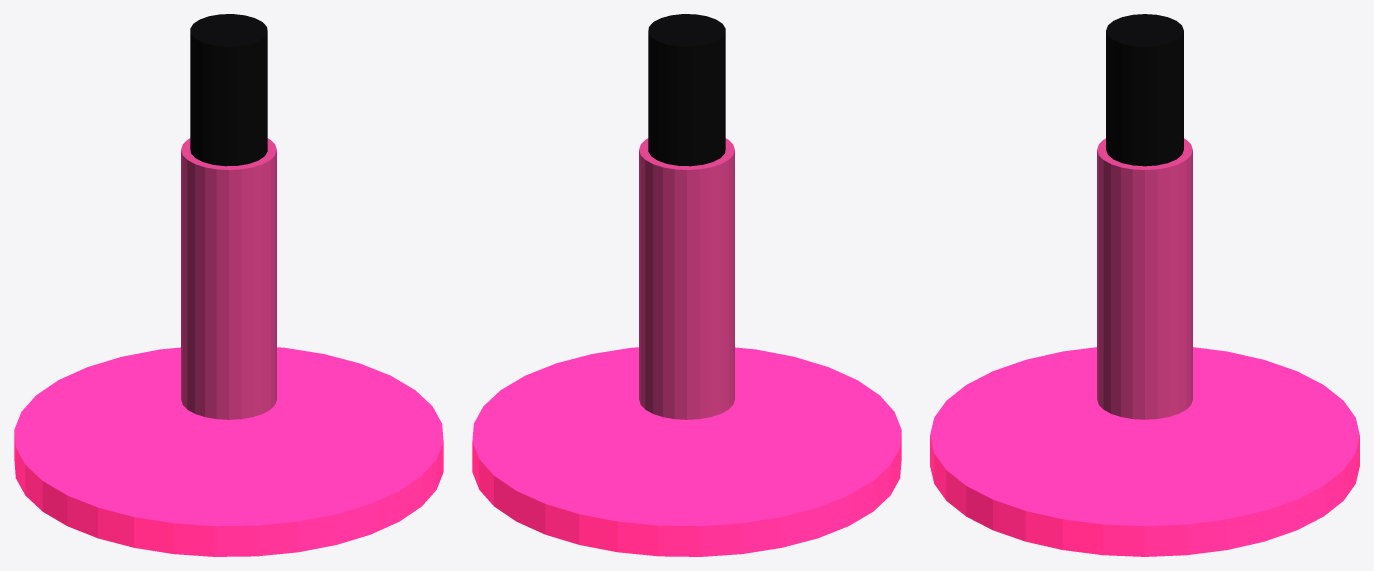
The model's file is beauty_lip_gloss.dae.
3 renders of one model, left to right at view 1: azimuth 30°, elevation 25°; view 2: azimuth 150°, elevation 25°; view 3: azimuth 270°, elevation 25°, orthographic.
Visible parts, largest first — view 1: 03_09_Popular_Beauty_Lip_Gloss_ROOT_base, 03_09_Popular_Beauty_Lip_Gloss_part_01, 03_09_Popular_Beauty_Lip_Gloss_part_02; view 2: 03_09_Popular_Beauty_Lip_Gloss_ROOT_base, 03_09_Popular_Beauty_Lip_Gloss_part_01, 03_09_Popular_Beauty_Lip_Gloss_part_02; view 3: 03_09_Popular_Beauty_Lip_Gloss_ROOT_base, 03_09_Popular_Beauty_Lip_Gloss_part_01, 03_09_Popular_Beauty_Lip_Gloss_part_02.
Boxes of the visible parts, x1,y1,x2,y2 form: 03_09_Popular_Beauty_Lip_Gloss_ROOT_base: [14, 347, 443, 556]; 03_09_Popular_Beauty_Lip_Gloss_part_01: [181, 138, 276, 419]; 03_09_Popular_Beauty_Lip_Gloss_part_02: [190, 14, 267, 166]; 03_09_Popular_Beauty_Lip_Gloss_ROOT_base: [472, 347, 901, 556]; 03_09_Popular_Beauty_Lip_Gloss_part_01: [639, 138, 734, 419]; 03_09_Popular_Beauty_Lip_Gloss_part_02: [648, 14, 725, 166]; 03_09_Popular_Beauty_Lip_Gloss_ROOT_base: [930, 347, 1359, 556]; 03_09_Popular_Beauty_Lip_Gloss_part_01: [1097, 138, 1192, 419]; 03_09_Popular_Beauty_Lip_Gloss_part_02: [1106, 14, 1183, 166].
Bounding box in the file's own units: 0.76 × 0.85 × 0.76.
